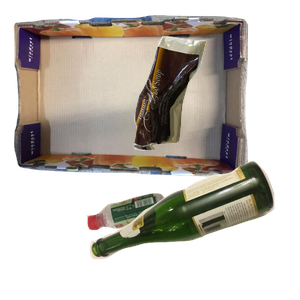cardboard: (11, 13, 251, 182)
glass: (87, 158, 300, 300)
plastic: (84, 191, 242, 300)
trash: (131, 34, 300, 177)
